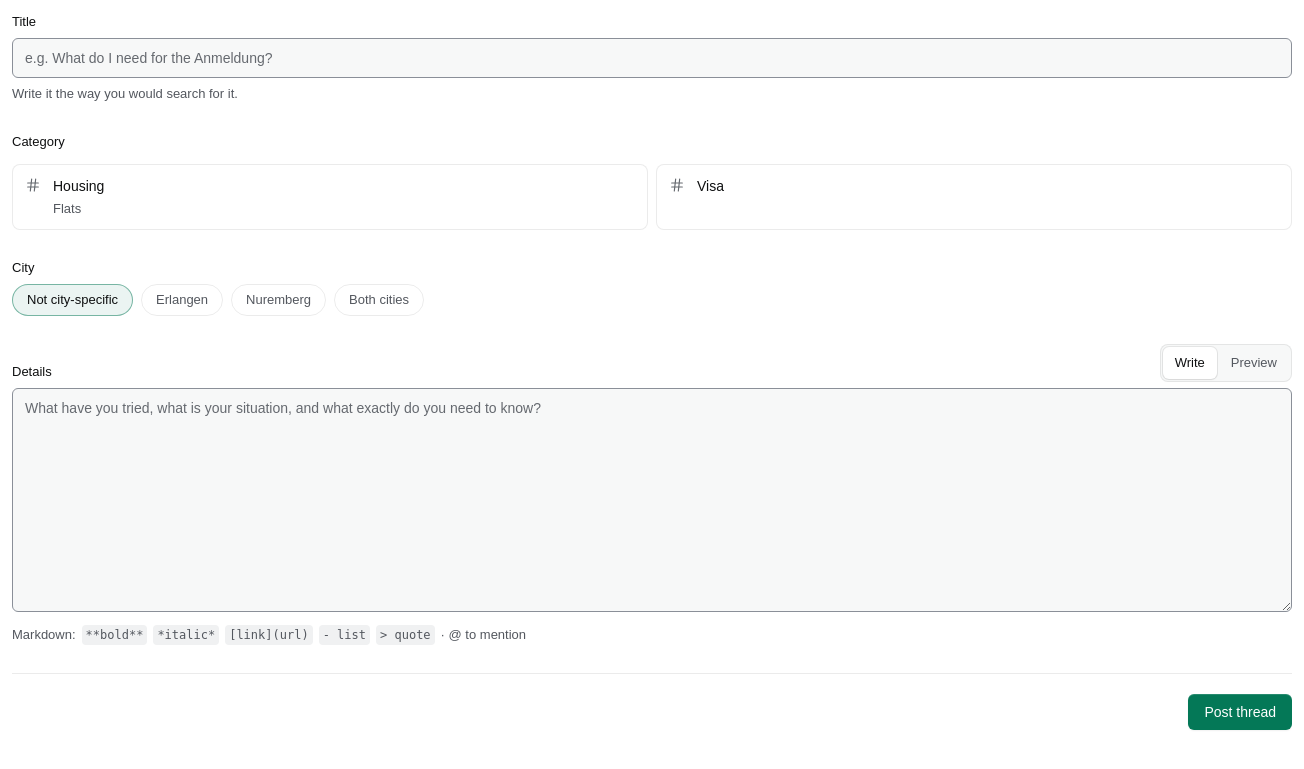
Test: ThreadForm errors › clears a field error as soon as that field is edited
The width and height of the screenshot is (1304, 769).
Click the button "Post thread" at (1240,712), box 1188,694 -> 1292,730
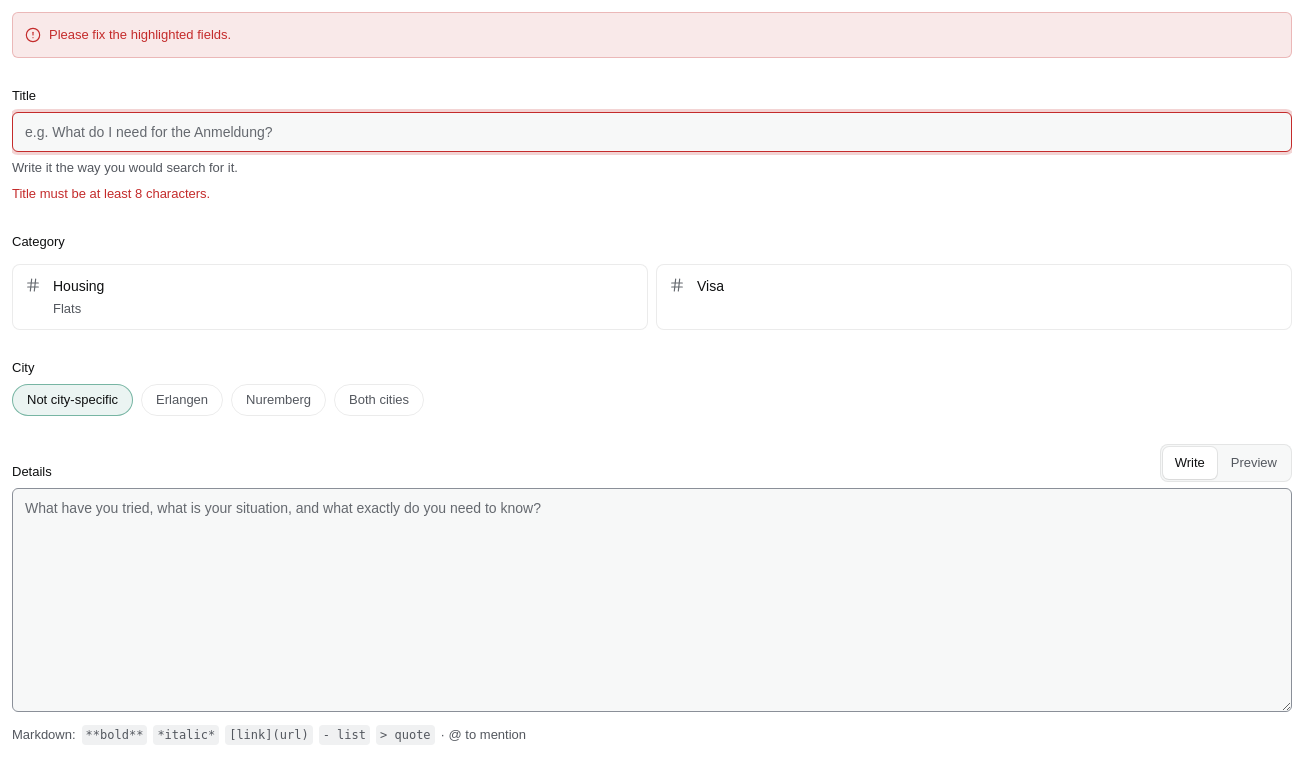
Expected: the text "Title must be at least 8 characters." is shown, 12,186 -> 210,201
Type "a" into the field labelled "Title" at (652,132), box 12,112 -> 1292,152
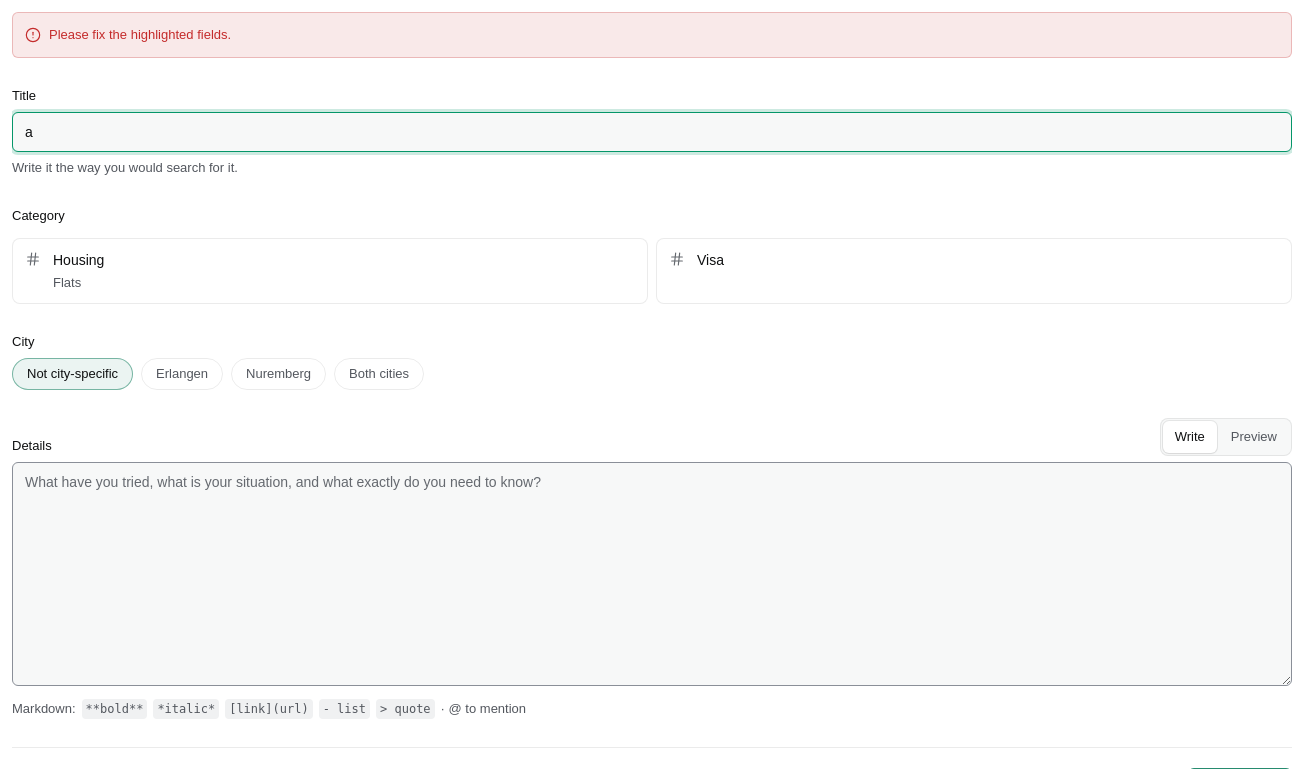
Expected: the text "Title must be at least 8 characters." is gone
